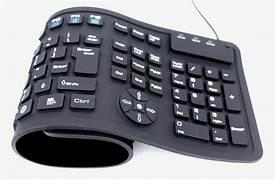keyboard: (11, 5, 263, 166)
